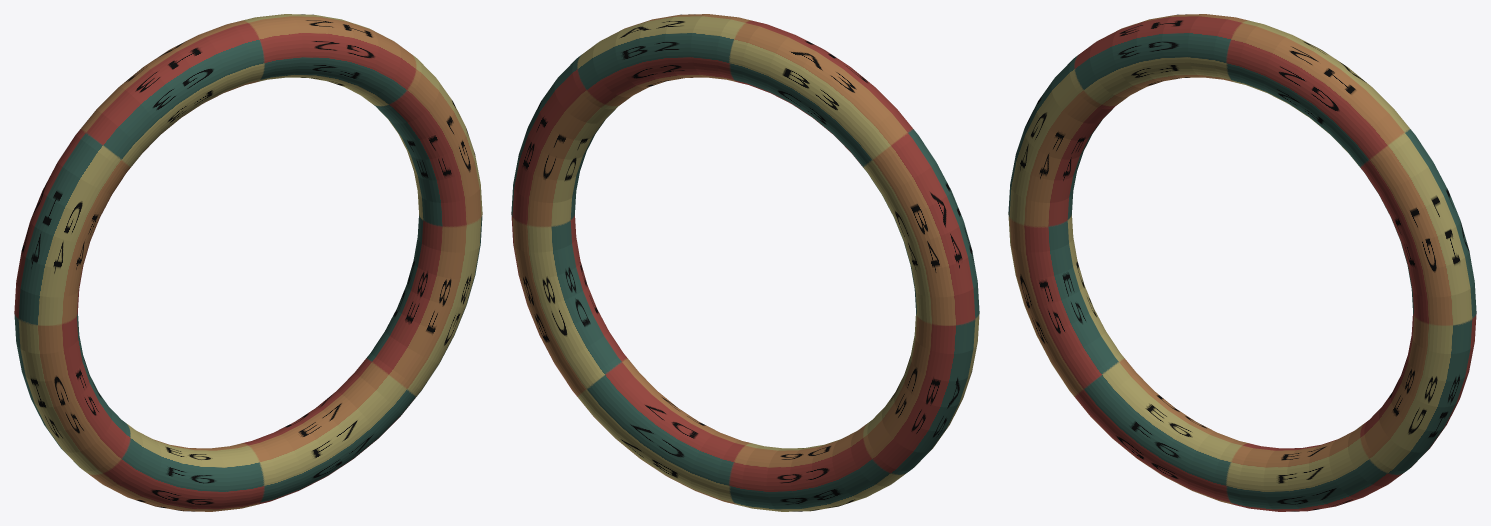
File: texture_torus_R10_r1.glb
3 renders of one model, left to right at view 1: azimuth 30°, elevation 25°; view 2: azimuth 150°, elevation 25°; view 3: azimuth 330°, elevation 25°, orthographic.
Visible parts, largest first — view 1: world; view 2: world; view 3: world.
Part boxes in pixels (<box>): world: <box>14,14,482,511</box>; world: <box>511,14,979,511</box>; world: <box>1008,14,1476,511</box>.
Bounding box in the file's own units: 18.93 × 18.9 × 2.26.
Materials: 1 (1 with a texture image).
